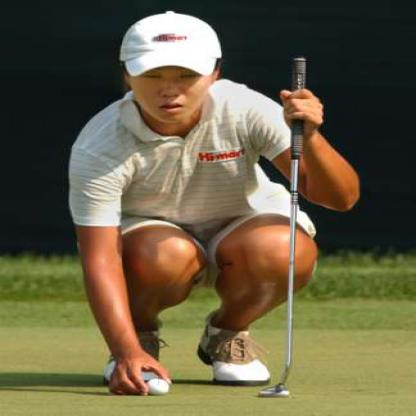face: (130, 30, 212, 124)
